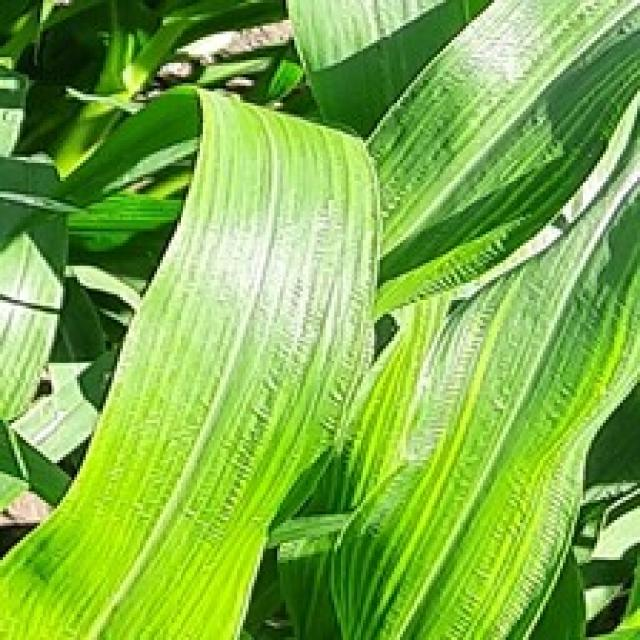Corn: (0, 0, 637, 637), (280, 0, 509, 137)
